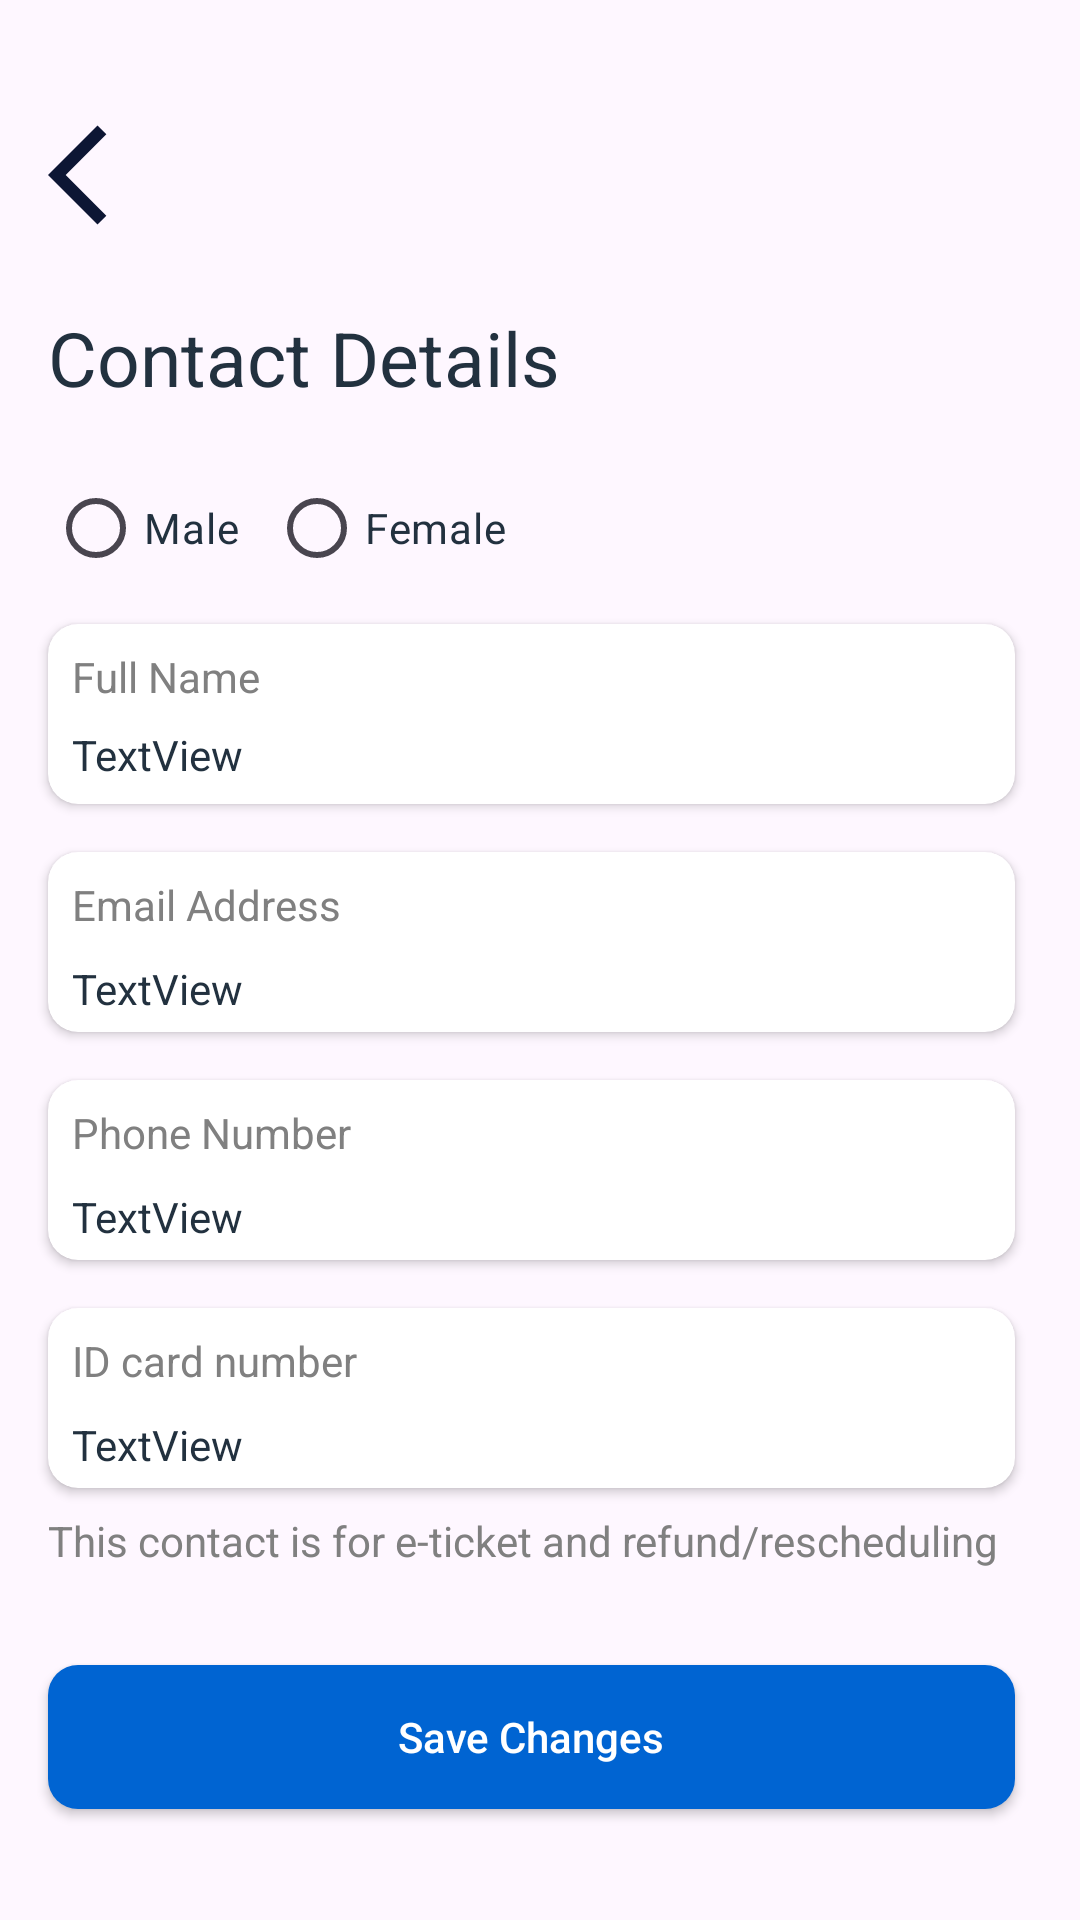

Where icons sit on this 1080 × 1920 app screen, as bbox(x1, y1, x2, y2):
arrow back darkblue: bbox(48, 125, 107, 225)
